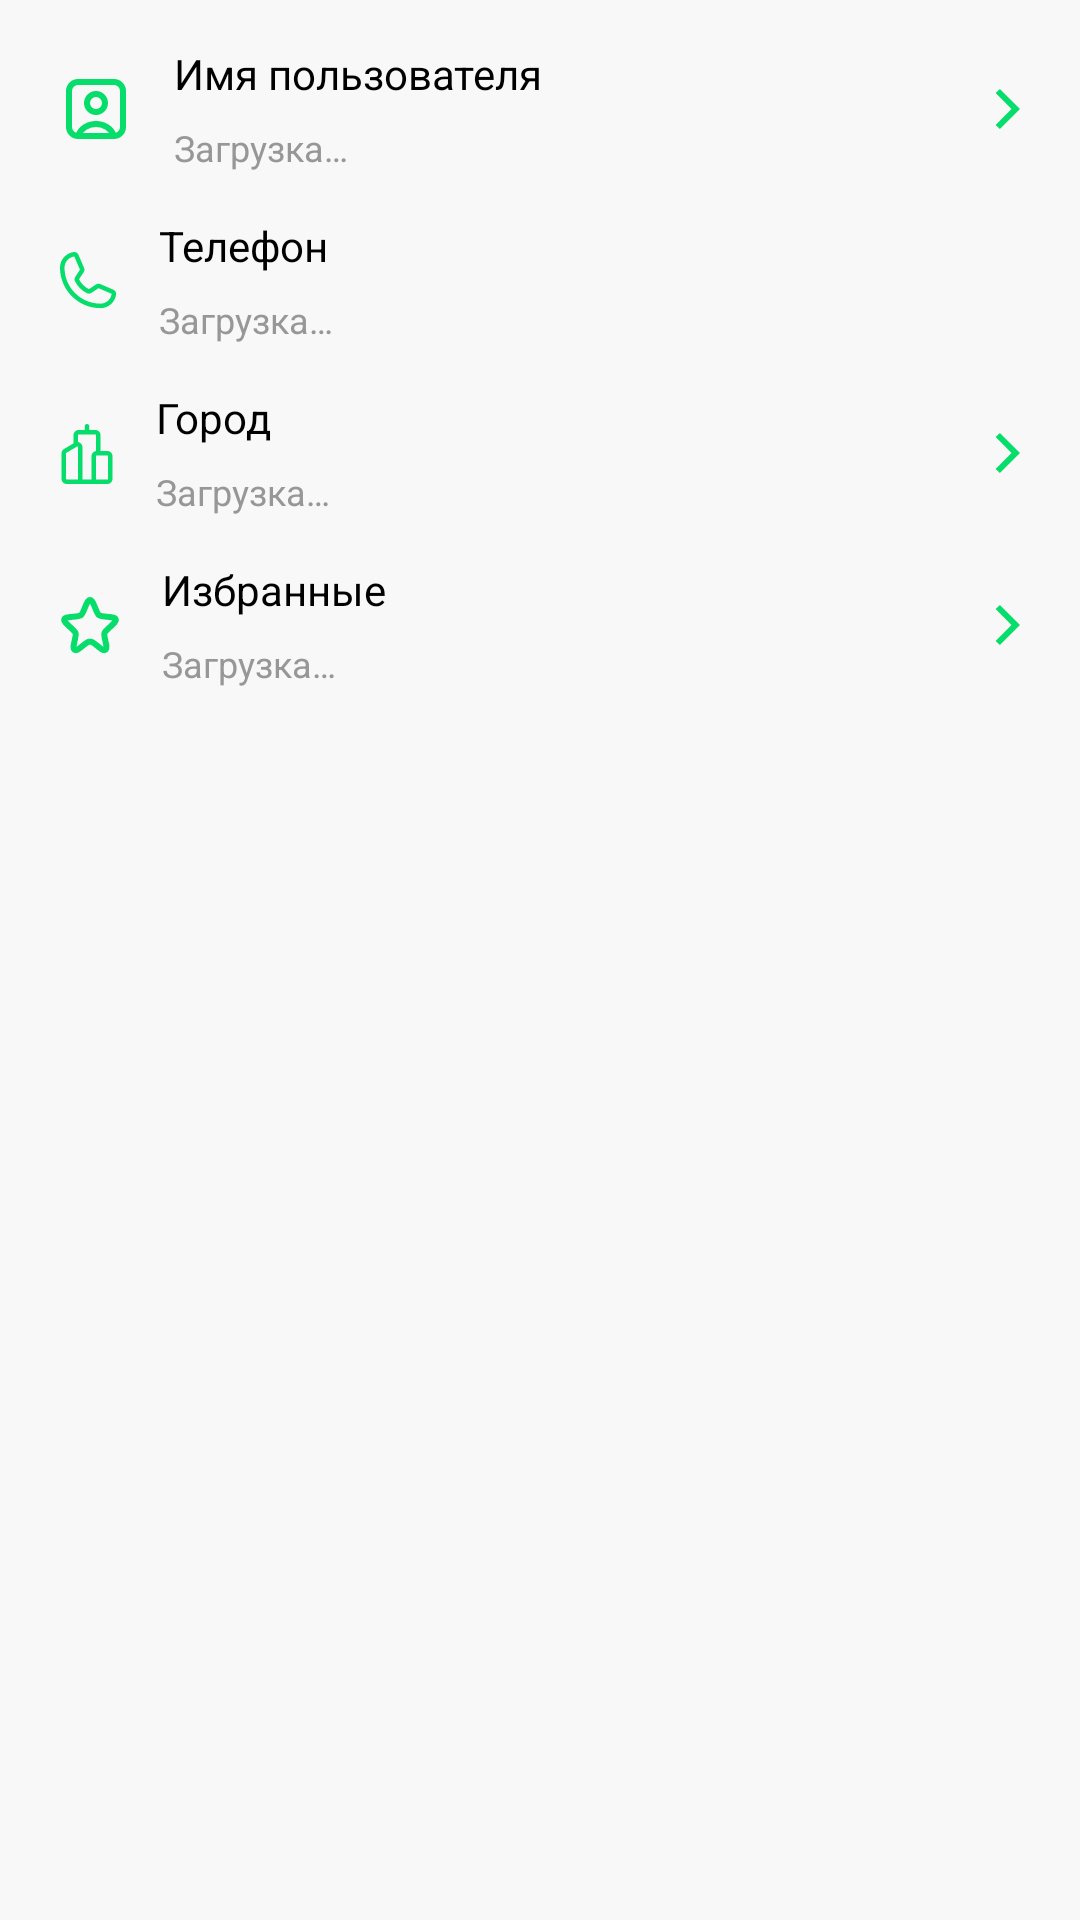

Icons on this 1080*1920 Android screen, each with its box as (x1, y1, x2, y2):
arrow right: (996, 89, 1020, 129), (996, 433, 1020, 473), (996, 605, 1020, 645)
city: (61, 424, 113, 484)
phone: (60, 252, 117, 309)
star: (61, 597, 119, 654)
user: (66, 79, 126, 139)
